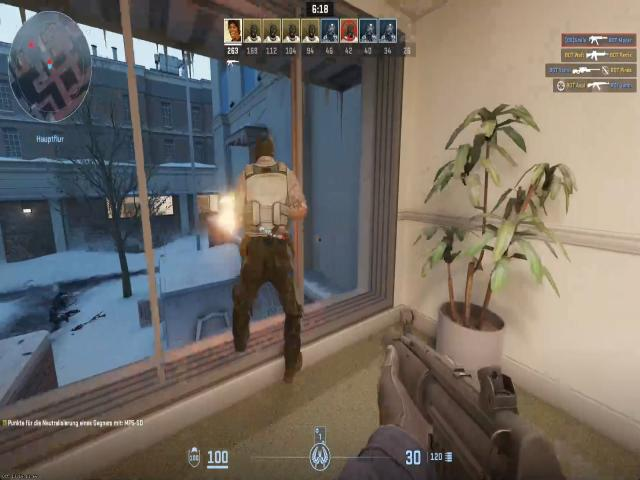Dead: (46, 287, 71, 327)
T: (232, 136, 300, 264)
T-Head: (252, 137, 280, 174)
